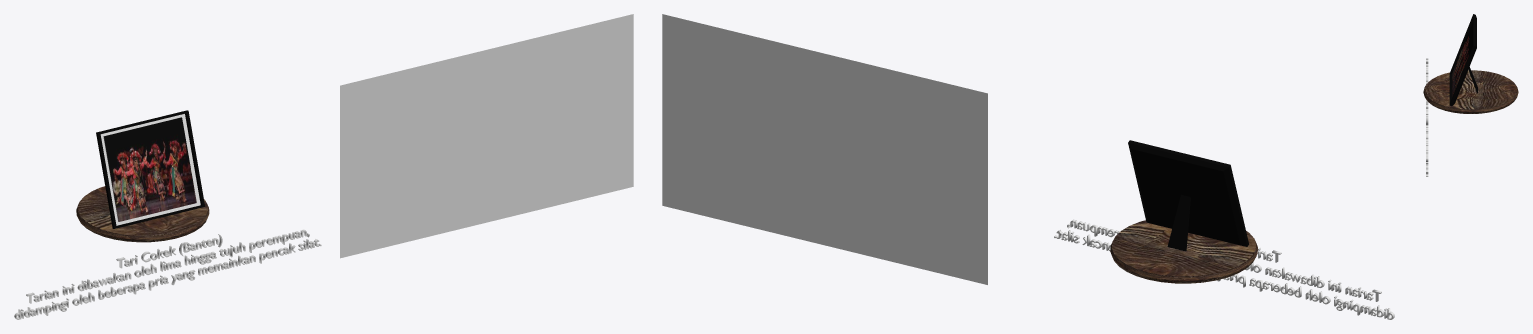
Rendered from 12. Tari cokek (Banten).fbx.
3 renders of one model, left to right at view 1: azimuth 30°, elevation 25°; view 2: azimuth 150°, elevation 25°; view 3: azimuth 270°, elevation 25°, orthographic. The views are drawn at different scales.
Parts seen in each view (by area): view 1: Plane, Cube.012, Text.001; view 2: Plane, Cube.012, Text.001; view 3: Cube.012, Text.001.
Part boxes in pixels (<box>): Plane: <box>340,14,633,258</box>; Cube.012: <box>76,110,209,242</box>; Text.001: <box>14,229,321,319</box>; Plane: <box>662,14,987,284</box>; Cube.012: <box>1110,140,1257,283</box>; Text.001: <box>1054,219,1394,319</box>; Cube.012: <box>1423,14,1518,113</box>; Text.001: <box>1426,58,1428,176</box>.
Size of the model in its own units: 6964 by 1806 by 1260.
6 materials, 3 textured.
